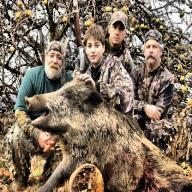boar: (15, 63, 192, 192)
